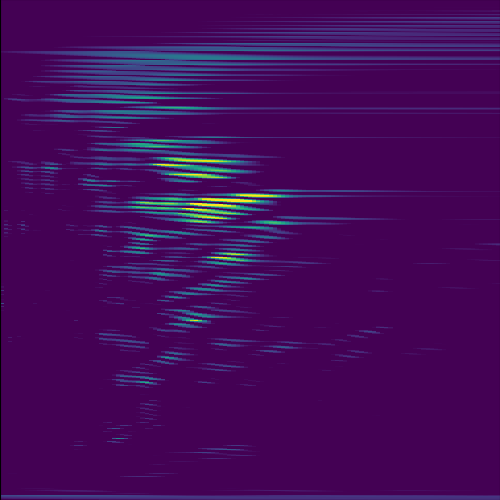semblance: (177, 190, 294, 226), (152, 154, 248, 185)
